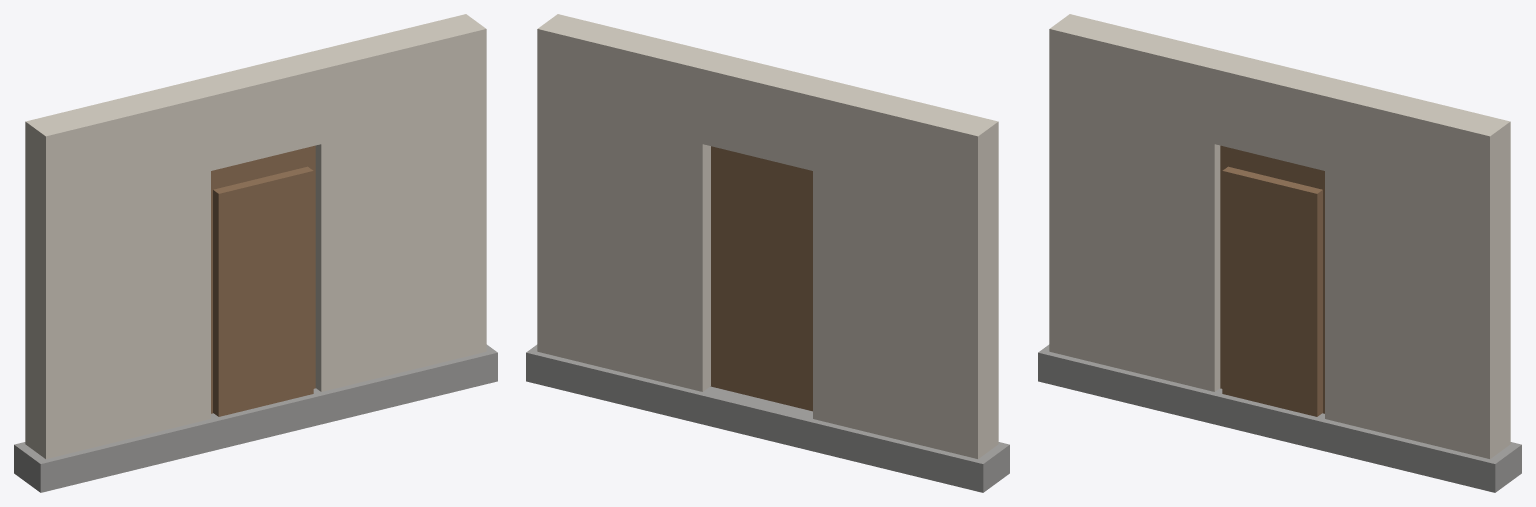
File: ARCH-wall-door-01.glb
3 renders of one model, left to right at view 1: azimuth 30°, elevation 25°; view 2: azimuth 150°, elevation 25°; view 3: azimuth 330°, elevation 25°, orthographic.
Parts seen in each view (by area): view 1: ARCH-wall-door-01; view 2: ARCH-wall-door-01; view 3: ARCH-wall-door-01.
Part boxes in pixels (bbox=[...]): ARCH-wall-door-01: bbox=[14, 14, 497, 492]; ARCH-wall-door-01: bbox=[526, 14, 1009, 492]; ARCH-wall-door-01: bbox=[1038, 14, 1521, 492].
Bounding box in the file's own units: 4.15 × 3.06 × 0.42.
